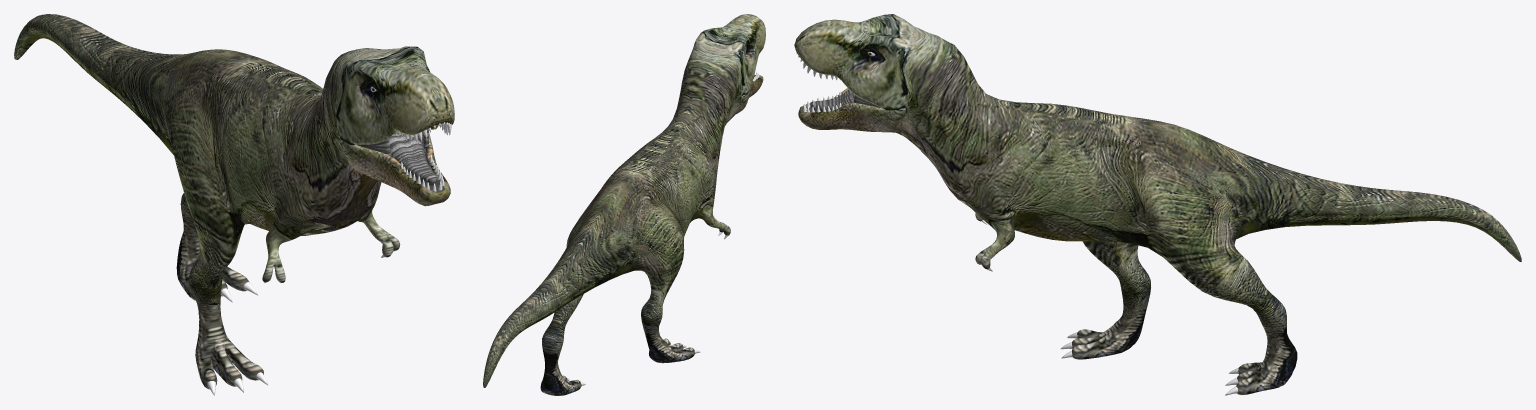
File: body.fbx
The picture shows the model from 3 angles, left to right: view 1: azimuth 30°, elevation 25°; view 2: azimuth 150°, elevation 25°; view 3: azimuth 270°, elevation 25°; orthographic projection. The views are drawn at different scales.
Visible parts, largest first — view 1: 0obj1, 0obj2, 0obj3; view 2: 0obj1; view 3: 0obj1, 0obj3.
Part boxes in pixels (bbox=[...]): 0obj1: bbox=[14, 14, 454, 389]; 0obj2: bbox=[356, 129, 436, 186]; 0obj3: bbox=[207, 86, 451, 395]; 0obj1: bbox=[483, 14, 765, 395]; 0obj1: bbox=[794, 14, 1521, 394]; 0obj3: bbox=[796, 51, 1238, 395].
Bounding box in the file's own units: 23.19 × 65.85 × 125.
5 materials, 5 textured.
